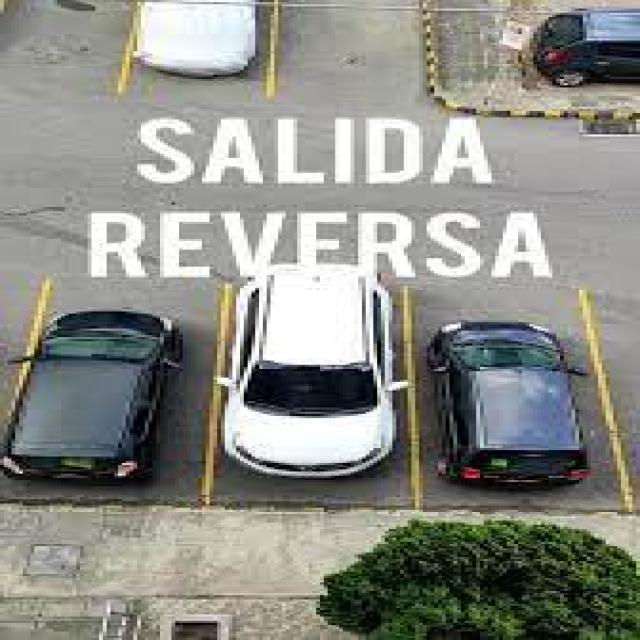libre: (265, 0, 434, 113)
ocupado: (404, 260, 627, 521), (197, 266, 424, 518), (0, 279, 219, 503), (94, 0, 289, 110)
